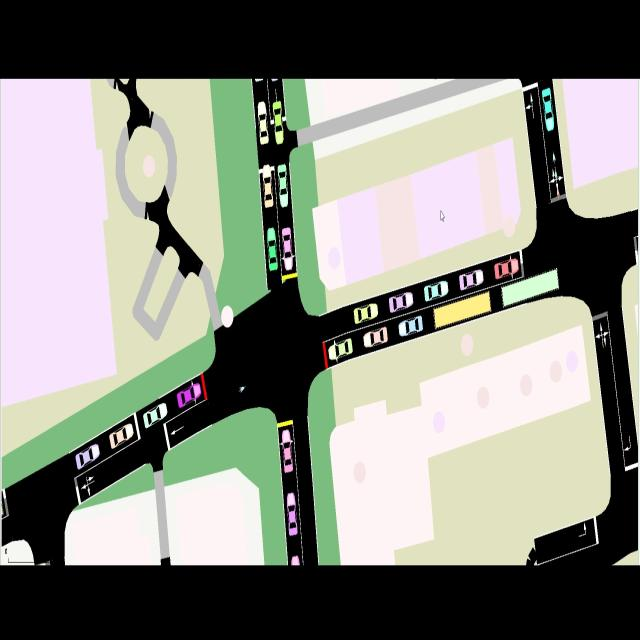vehicle: (501, 267, 560, 307), (433, 290, 492, 329), (142, 399, 168, 431), (327, 336, 354, 362), (281, 225, 295, 273), (177, 380, 201, 408), (110, 422, 134, 450), (363, 324, 389, 349), (541, 86, 555, 132), (272, 100, 286, 146), (494, 256, 520, 280), (76, 443, 100, 469), (280, 429, 294, 473), (256, 103, 270, 146), (353, 300, 378, 324), (389, 290, 413, 314), (458, 270, 484, 292), (398, 315, 424, 337), (424, 280, 448, 303), (286, 492, 298, 537), (266, 228, 278, 272), (277, 166, 289, 208), (262, 166, 273, 208)
